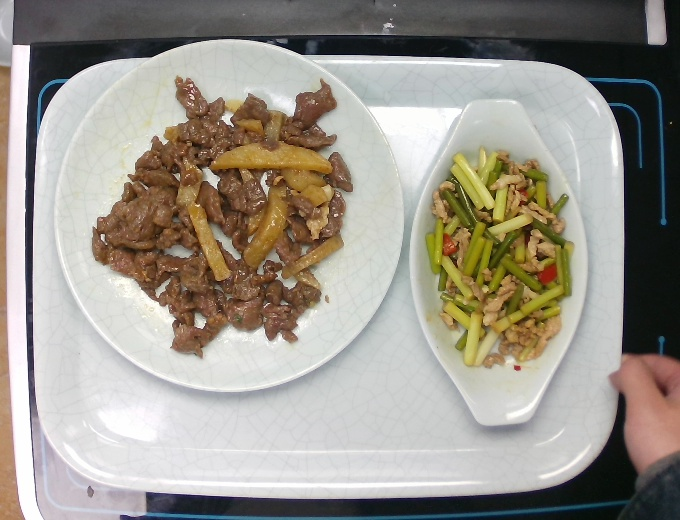JYsf-Da_Yuan_Pan: (49, 39, 407, 395)
JYsf-Yu_Pan: (410, 97, 593, 434)
